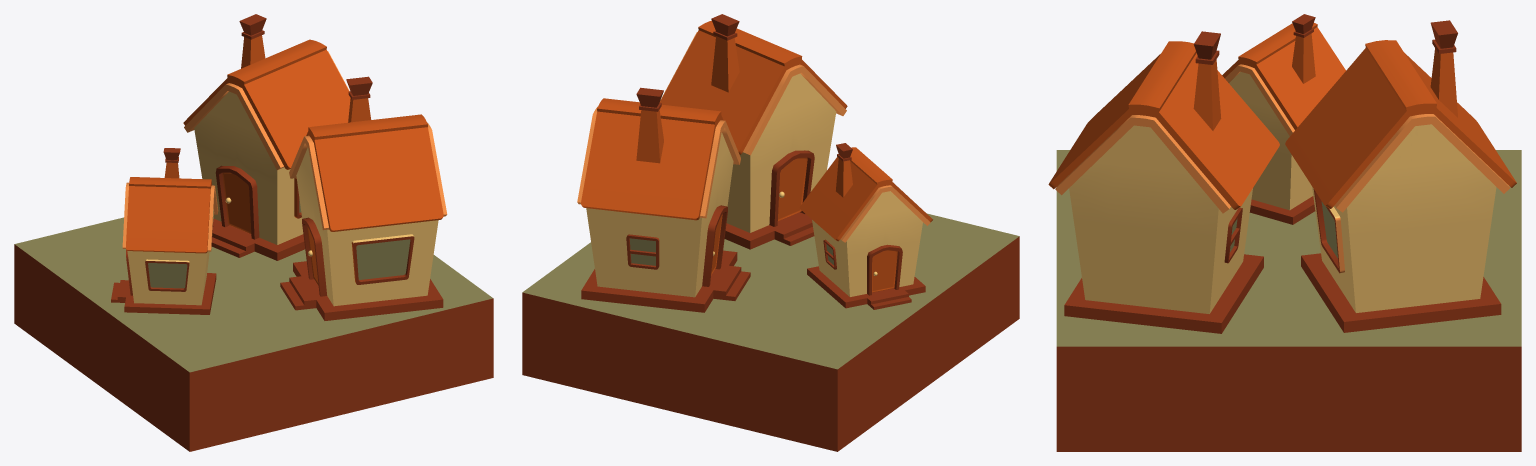
Rendered from pueblo.fbx.
3 views of the same model, side by side, from view 1: azimuth 30°, elevation 25°; view 2: azimuth 150°, elevation 25°; view 3: azimuth 270°, elevation 25° (orthographic). The views are drawn at different scales.
Parts seen in each view (by area): view 1: CASA; view 2: CASA; view 3: CASA.
Part boxes in pixels (<box>): CASA: <box>14,14,493,451</box>; CASA: <box>522,14,1019,451</box>; CASA: <box>1048,14,1521,451</box>.
Bounding box in the file's own units: 200 × 172 × 204.
